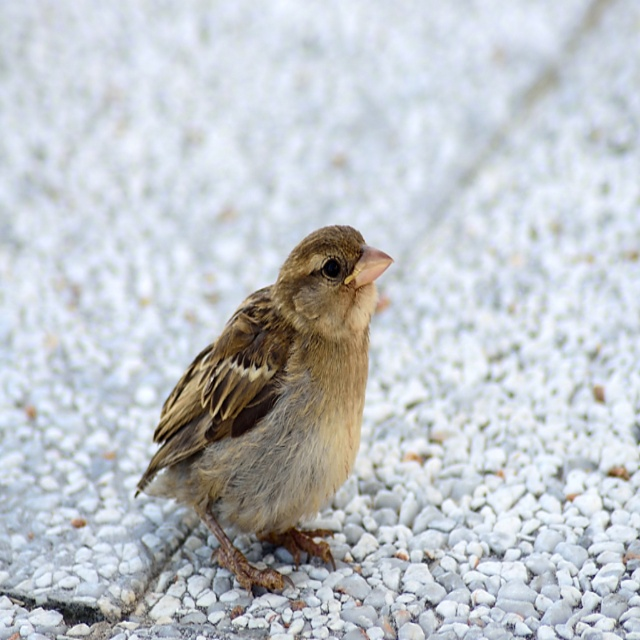Sparrow: (131, 219, 394, 591)
